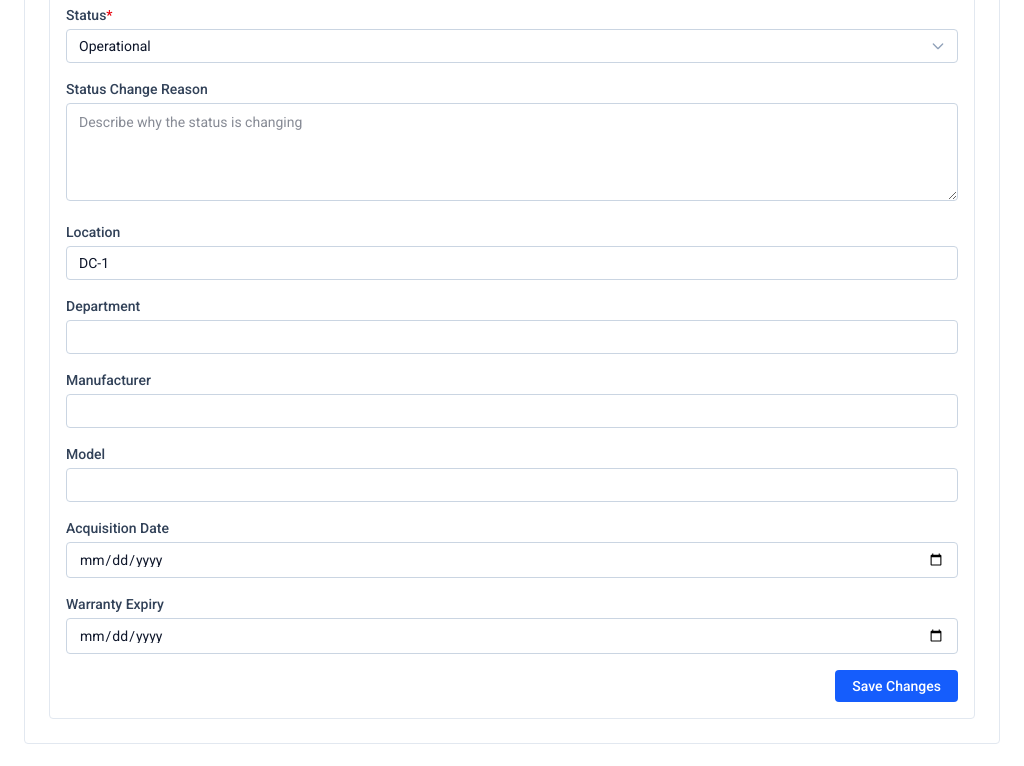
Scenario: EditAssetPage › shows API error when asset update fails
(page scrolled)
What coordinates should you click on to do the following:
click the button "Save Changes"
I would click on:
 (897, 686)
Its box is 835,670 -> 958,702.
(page scrolled)
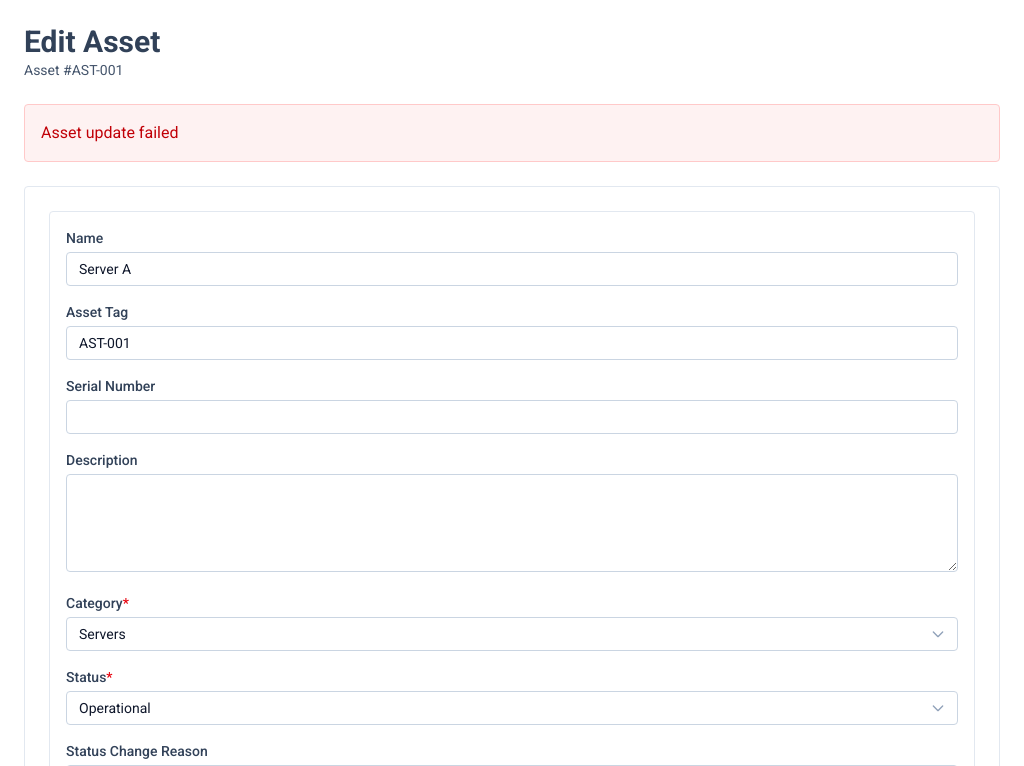
Now the text "Asset update failed" is shown, box 24,104 -> 1000,162
